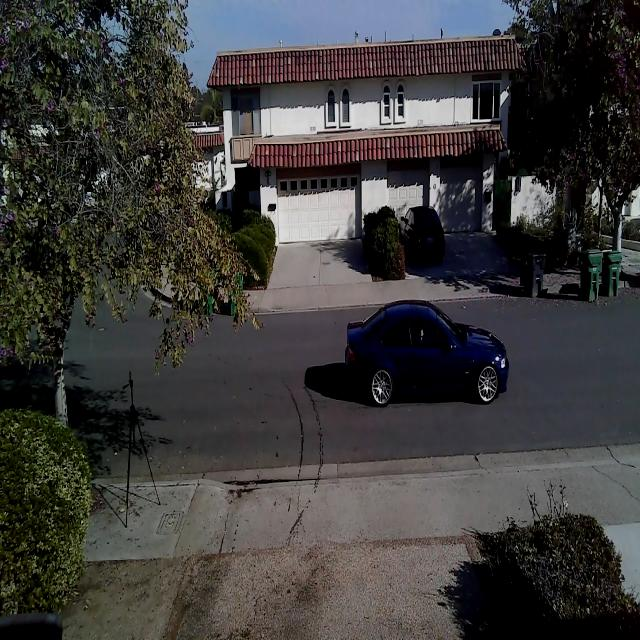Carbeetle: (336, 293, 515, 411)
Civilian: (397, 206, 445, 264)
